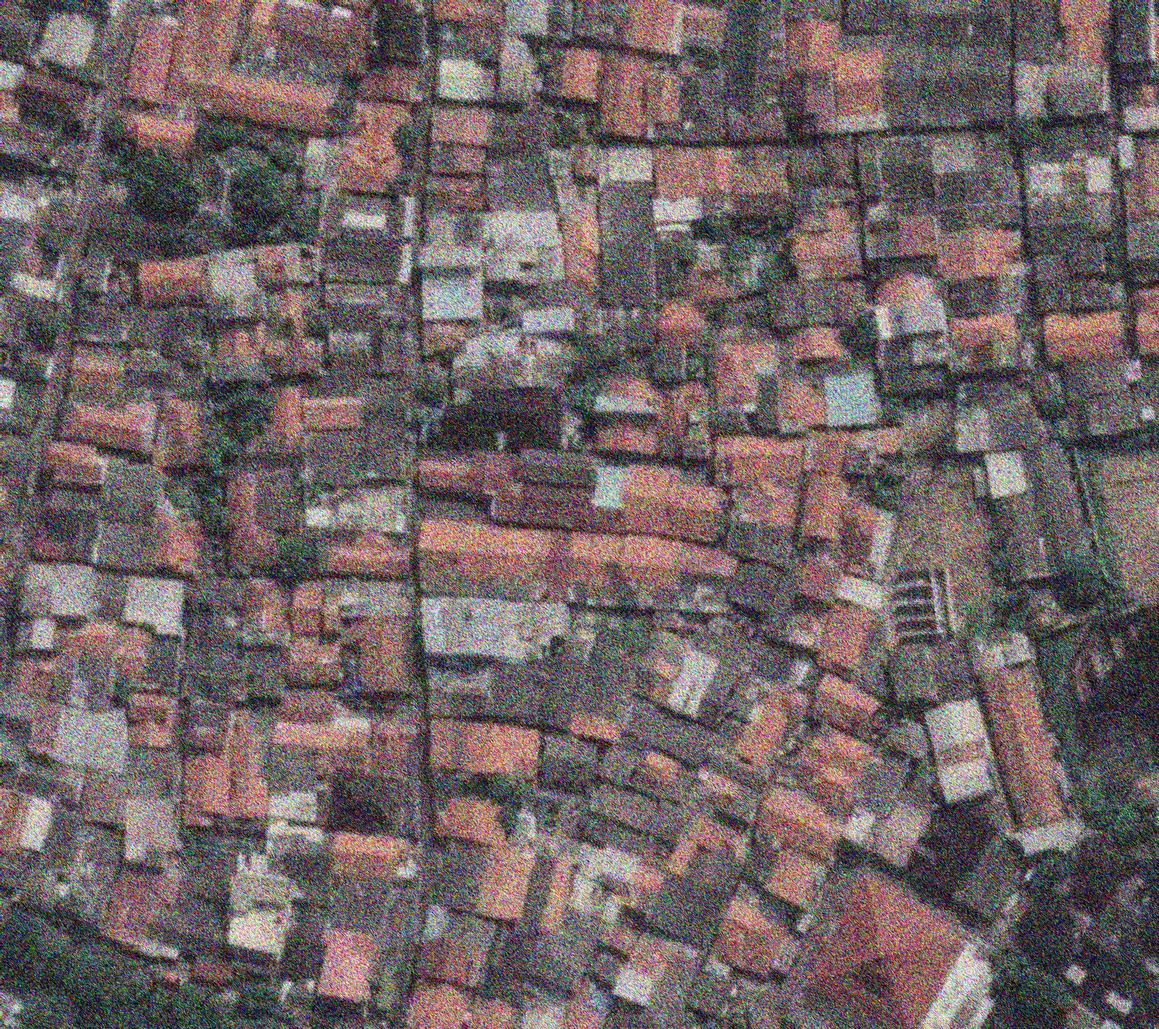building: (800, 868, 1019, 1029), (415, 517, 739, 617), (164, 0, 374, 140), (263, 679, 425, 801), (439, 322, 577, 458), (982, 433, 1097, 585), (973, 659, 1073, 833), (904, 798, 1037, 926), (884, 0, 1009, 131), (12, 805, 136, 932), (480, 447, 609, 564), (316, 879, 421, 1018), (164, 58, 337, 137), (493, 888, 608, 1003), (247, 236, 333, 379), (416, 592, 570, 665), (148, 846, 237, 963), (926, 129, 1023, 236), (606, 925, 704, 1029), (219, 852, 297, 982), (433, 831, 537, 927), (591, 728, 699, 819), (614, 460, 729, 545), (0, 87, 97, 183), (920, 694, 1002, 807), (180, 574, 250, 703), (1064, 924, 1158, 1019), (866, 766, 949, 873), (749, 778, 851, 865), (834, 747, 913, 858), (785, 719, 877, 813), (1054, 830, 1143, 925), (1009, 882, 1101, 973), (426, 657, 550, 724), (724, 0, 784, 136), (319, 193, 406, 285), (721, 471, 802, 569), (704, 895, 793, 984), (872, 295, 952, 394), (626, 631, 716, 719), (664, 809, 753, 896), (566, 646, 641, 747), (34, 0, 122, 86), (641, 867, 730, 952), (945, 388, 1044, 464), (618, 694, 716, 770), (597, 183, 656, 309), (425, 717, 541, 780), (226, 471, 302, 567), (479, 204, 564, 289), (787, 187, 863, 282), (560, 837, 641, 926), (1060, 354, 1139, 441), (708, 339, 781, 433), (670, 650, 749, 735), (953, 379, 1040, 455), (323, 767, 417, 836), (553, 175, 605, 299), (883, 638, 973, 709), (592, 365, 661, 457), (728, 687, 801, 773), (803, 669, 888, 742), (683, 762, 768, 834), (58, 395, 157, 456), (85, 198, 172, 267), (828, 496, 898, 580), (809, 597, 879, 680), (173, 0, 241, 85), (472, 838, 537, 926), (884, 566, 957, 643), (122, 12, 180, 108), (766, 275, 865, 331), (1025, 192, 1115, 253), (651, 71, 725, 145), (517, 848, 577, 939), (1101, 869, 1159, 962), (101, 867, 165, 951), (38, 486, 106, 564), (349, 615, 413, 697), (420, 900, 501, 964), (860, 199, 938, 265), (20, 559, 97, 625), (418, 245, 483, 323), (946, 310, 1025, 374), (304, 486, 407, 535), (937, 225, 1024, 283), (344, 94, 412, 168), (570, 300, 655, 359), (260, 819, 334, 886), (417, 449, 516, 499), (1040, 308, 1125, 365), (317, 932, 379, 1010), (831, 47, 887, 133), (0, 185, 43, 297), (431, 790, 512, 849), (760, 844, 830, 912), (719, 510, 797, 571), (15, 68, 97, 126), (598, 51, 651, 140), (57, 710, 127, 776), (322, 282, 409, 335), (713, 435, 803, 486), (730, 144, 791, 219), (205, 248, 266, 323), (318, 530, 411, 579), (534, 729, 602, 796), (535, 649, 588, 733), (0, 692, 68, 757), (274, 909, 332, 985), (328, 830, 411, 882), (625, 931, 698, 990), (412, 933, 486, 991), (722, 554, 786, 621), (795, 469, 850, 546), (694, 611, 761, 673), (585, 778, 659, 834), (570, 836, 640, 895), (114, 630, 181, 691), (484, 154, 552, 214), (152, 396, 207, 470), (99, 460, 166, 520), (120, 108, 197, 160), (248, 466, 306, 534), (123, 576, 187, 637), (193, 148, 246, 221), (368, 0, 429, 63), (181, 756, 232, 831), (327, 142, 394, 199), (748, 641, 820, 694), (136, 256, 209, 307), (880, 710, 943, 769), (156, 303, 213, 368), (514, 446, 598, 490), (50, 655, 114, 712), (122, 750, 187, 806), (124, 804, 178, 870), (782, 69, 835, 136), (97, 518, 158, 576), (1046, 61, 1108, 118), (879, 136, 934, 200), (548, 44, 605, 105), (303, 430, 364, 487), (945, 274, 1027, 316), (821, 371, 880, 429), (178, 199, 236, 258), (659, 382, 707, 453), (15, 759, 84, 808), (624, 0, 684, 56), (40, 441, 110, 489), (337, 575, 411, 620), (433, 53, 498, 104), (1, 294, 59, 351), (773, 373, 828, 433), (367, 716, 418, 780), (243, 577, 288, 649), (232, 737, 271, 820), (357, 56, 423, 105), (1058, 0, 1109, 63), (486, 663, 540, 722), (152, 514, 205, 574), (970, 628, 1036, 676), (253, 239, 316, 289), (683, 965, 738, 1022), (789, 551, 844, 608), (784, 320, 849, 368), (1031, 124, 1113, 162), (2, 786, 48, 853), (125, 692, 178, 750), (579, 813, 647, 858), (68, 345, 127, 396), (1113, 0, 1154, 72), (405, 982, 469, 1028), (785, 19, 840, 72), (181, 699, 233, 755), (1011, 0, 1057, 63), (1121, 138, 1158, 216), (619, 860, 667, 920), (516, 285, 573, 335), (488, 110, 549, 156), (780, 598, 830, 654), (32, 199, 79, 258), (1030, 251, 1074, 314), (495, 36, 537, 102), (287, 635, 340, 686), (429, 105, 493, 147), (654, 235, 697, 297), (873, 268, 939, 308), (125, 349, 181, 396), (569, 0, 630, 43), (269, 745, 319, 796), (73, 296, 125, 345), (1009, 60, 1051, 120), (0, 4, 40, 67), (653, 146, 700, 199), (363, 425, 407, 481), (357, 377, 408, 425), (680, 0, 727, 52), (82, 776, 134, 822), (121, 304, 170, 352), (657, 300, 707, 347), (1025, 159, 1085, 198), (644, 66, 683, 126), (58, 619, 119, 657), (833, 571, 888, 613), (476, 963, 526, 1009), (784, 142, 829, 193), (0, 436, 37, 496), (1125, 216, 1158, 283), (598, 146, 653, 186), (423, 211, 482, 248), (841, 0, 907, 33), (876, 129, 928, 170), (244, 649, 285, 701), (425, 175, 484, 211), (277, 689, 336, 725), (302, 396, 361, 431), (427, 142, 485, 177), (1120, 80, 1158, 133), (9, 656, 54, 700), (327, 330, 371, 374), (290, 581, 325, 636), (243, 443, 305, 474), (271, 386, 303, 446), (93, 568, 129, 621), (208, 354, 269, 385), (369, 326, 407, 374), (0, 380, 46, 419), (562, 986, 604, 1028), (1133, 286, 1158, 356), (591, 462, 627, 510), (699, 146, 733, 195), (299, 136, 329, 191), (585, 948, 625, 989), (516, 995, 565, 1028), (823, 139, 856, 188), (504, 0, 548, 36), (461, 0, 504, 36), (1066, 239, 1106, 277), (593, 393, 656, 417), (78, 254, 114, 296), (466, 998, 516, 1028), (1071, 278, 1117, 309), (651, 345, 687, 383), (693, 268, 733, 302), (15, 621, 58, 652), (779, 683, 813, 720), (192, 958, 232, 989), (1083, 154, 1113, 194), (784, 0, 842, 20), (16, 348, 55, 377), (570, 144, 599, 182), (547, 0, 573, 38), (1122, 105, 1158, 132), (341, 210, 386, 231), (33, 535, 65, 562), (474, 36, 501, 67), (548, 149, 571, 180), (647, 706, 666, 724), (601, 513, 622, 529), (634, 699, 651, 711)
tree: (114, 144, 213, 235), (204, 378, 281, 452), (475, 755, 546, 829), (959, 581, 1036, 638), (263, 526, 327, 593), (1052, 550, 1115, 615), (229, 159, 291, 223), (1082, 786, 1147, 847), (249, 120, 311, 179), (561, 331, 620, 391), (1014, 843, 1078, 897), (165, 479, 227, 534), (269, 198, 323, 254), (833, 306, 888, 360), (194, 433, 242, 485), (0, 912, 42, 971), (218, 209, 268, 257), (92, 112, 139, 163), (558, 380, 603, 424), (1001, 112, 1044, 154), (178, 828, 230, 860), (862, 472, 903, 512), (549, 110, 589, 149), (195, 121, 243, 153), (693, 213, 732, 247), (928, 416, 960, 456), (25, 308, 59, 345), (1035, 383, 1066, 423), (95, 150, 130, 184), (414, 375, 448, 408), (386, 172, 412, 196), (304, 306, 327, 333)
